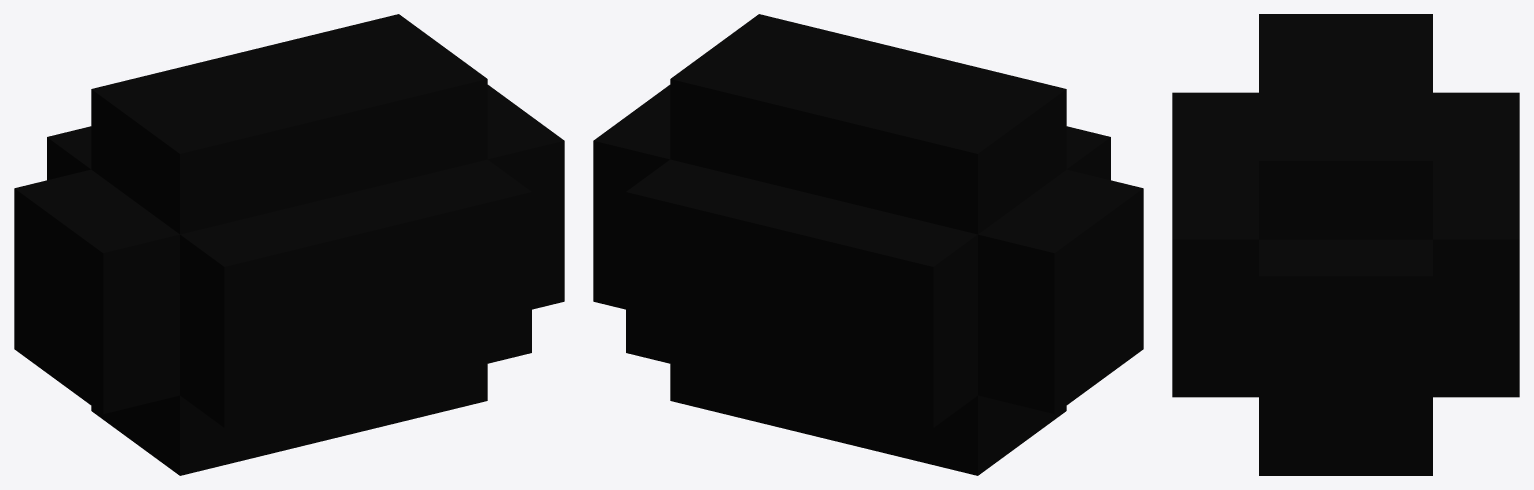
Rendered from longbullet_player.obj.
The picture shows the model from 3 angles, left to right: view 1: azimuth 30°, elevation 25°; view 2: azimuth 150°, elevation 25°; view 3: azimuth 270°, elevation 25°; orthographic projection. The views are drawn at different scales.
Bounding box in the file's own units: 6 × 4 × 4.
1 material, 1 textured.
